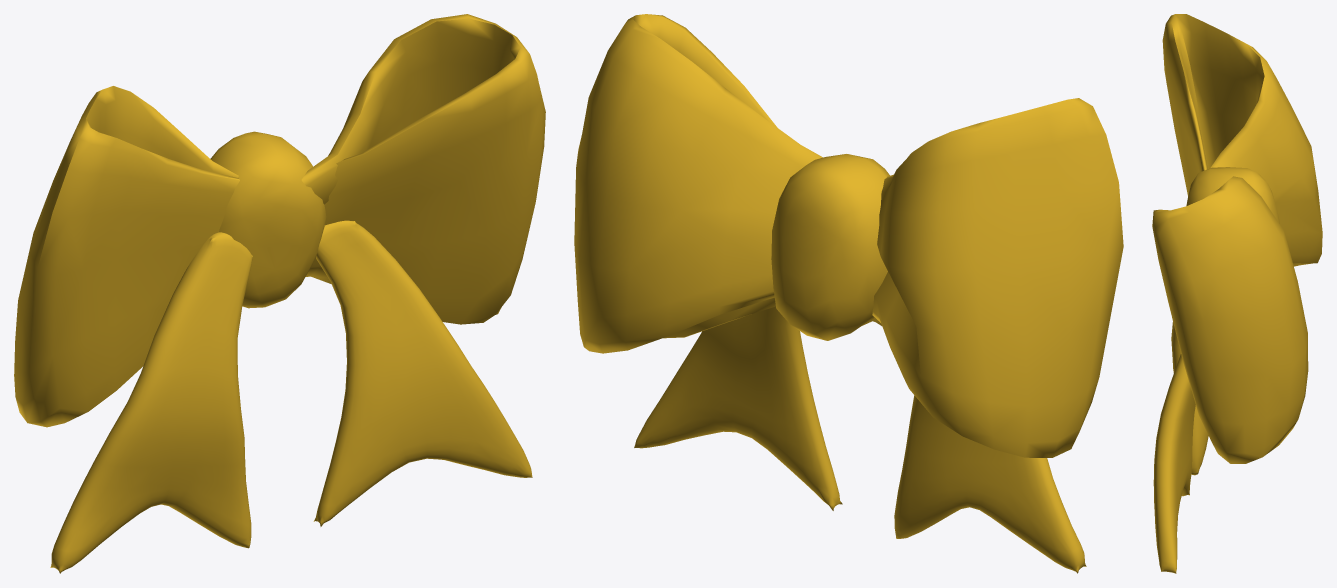
Rendered from pink bow FBX.glb.
3 views of the same model, side by side, from view 1: azimuth 30°, elevation 25°; view 2: azimuth 150°, elevation 25°; view 3: azimuth 270°, elevation 25° (orthographic). The views are drawn at different scales.
Visible parts, largest first — view 1: Bow1, Bow2, Bow3; view 2: Bow1, Bow2, Bow3; view 3: Bow1, Bow2, Bow3.
Part boxes in pixels (<box>): Bow1: <box>14,14,545,427</box>; Bow2: <box>50,220,532,573</box>; Bow3: <box>210,131,326,308</box>; Bow1: <box>574,14,1123,457</box>; Bow2: <box>634,306,1086,573</box>; Bow3: <box>771,154,889,340</box>; Bow1: <box>1152,14,1322,463</box>; Bow2: <box>1153,322,1208,573</box>; Bow3: <box>1186,167,1279,223</box>.
Bounding box in the file's own units: 0.4494 × 0.3936 × 0.154.
